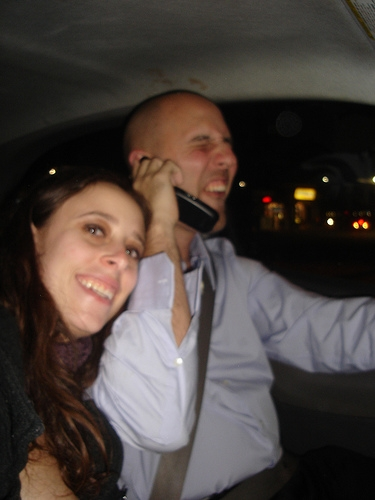phone: (132, 162, 219, 233)
